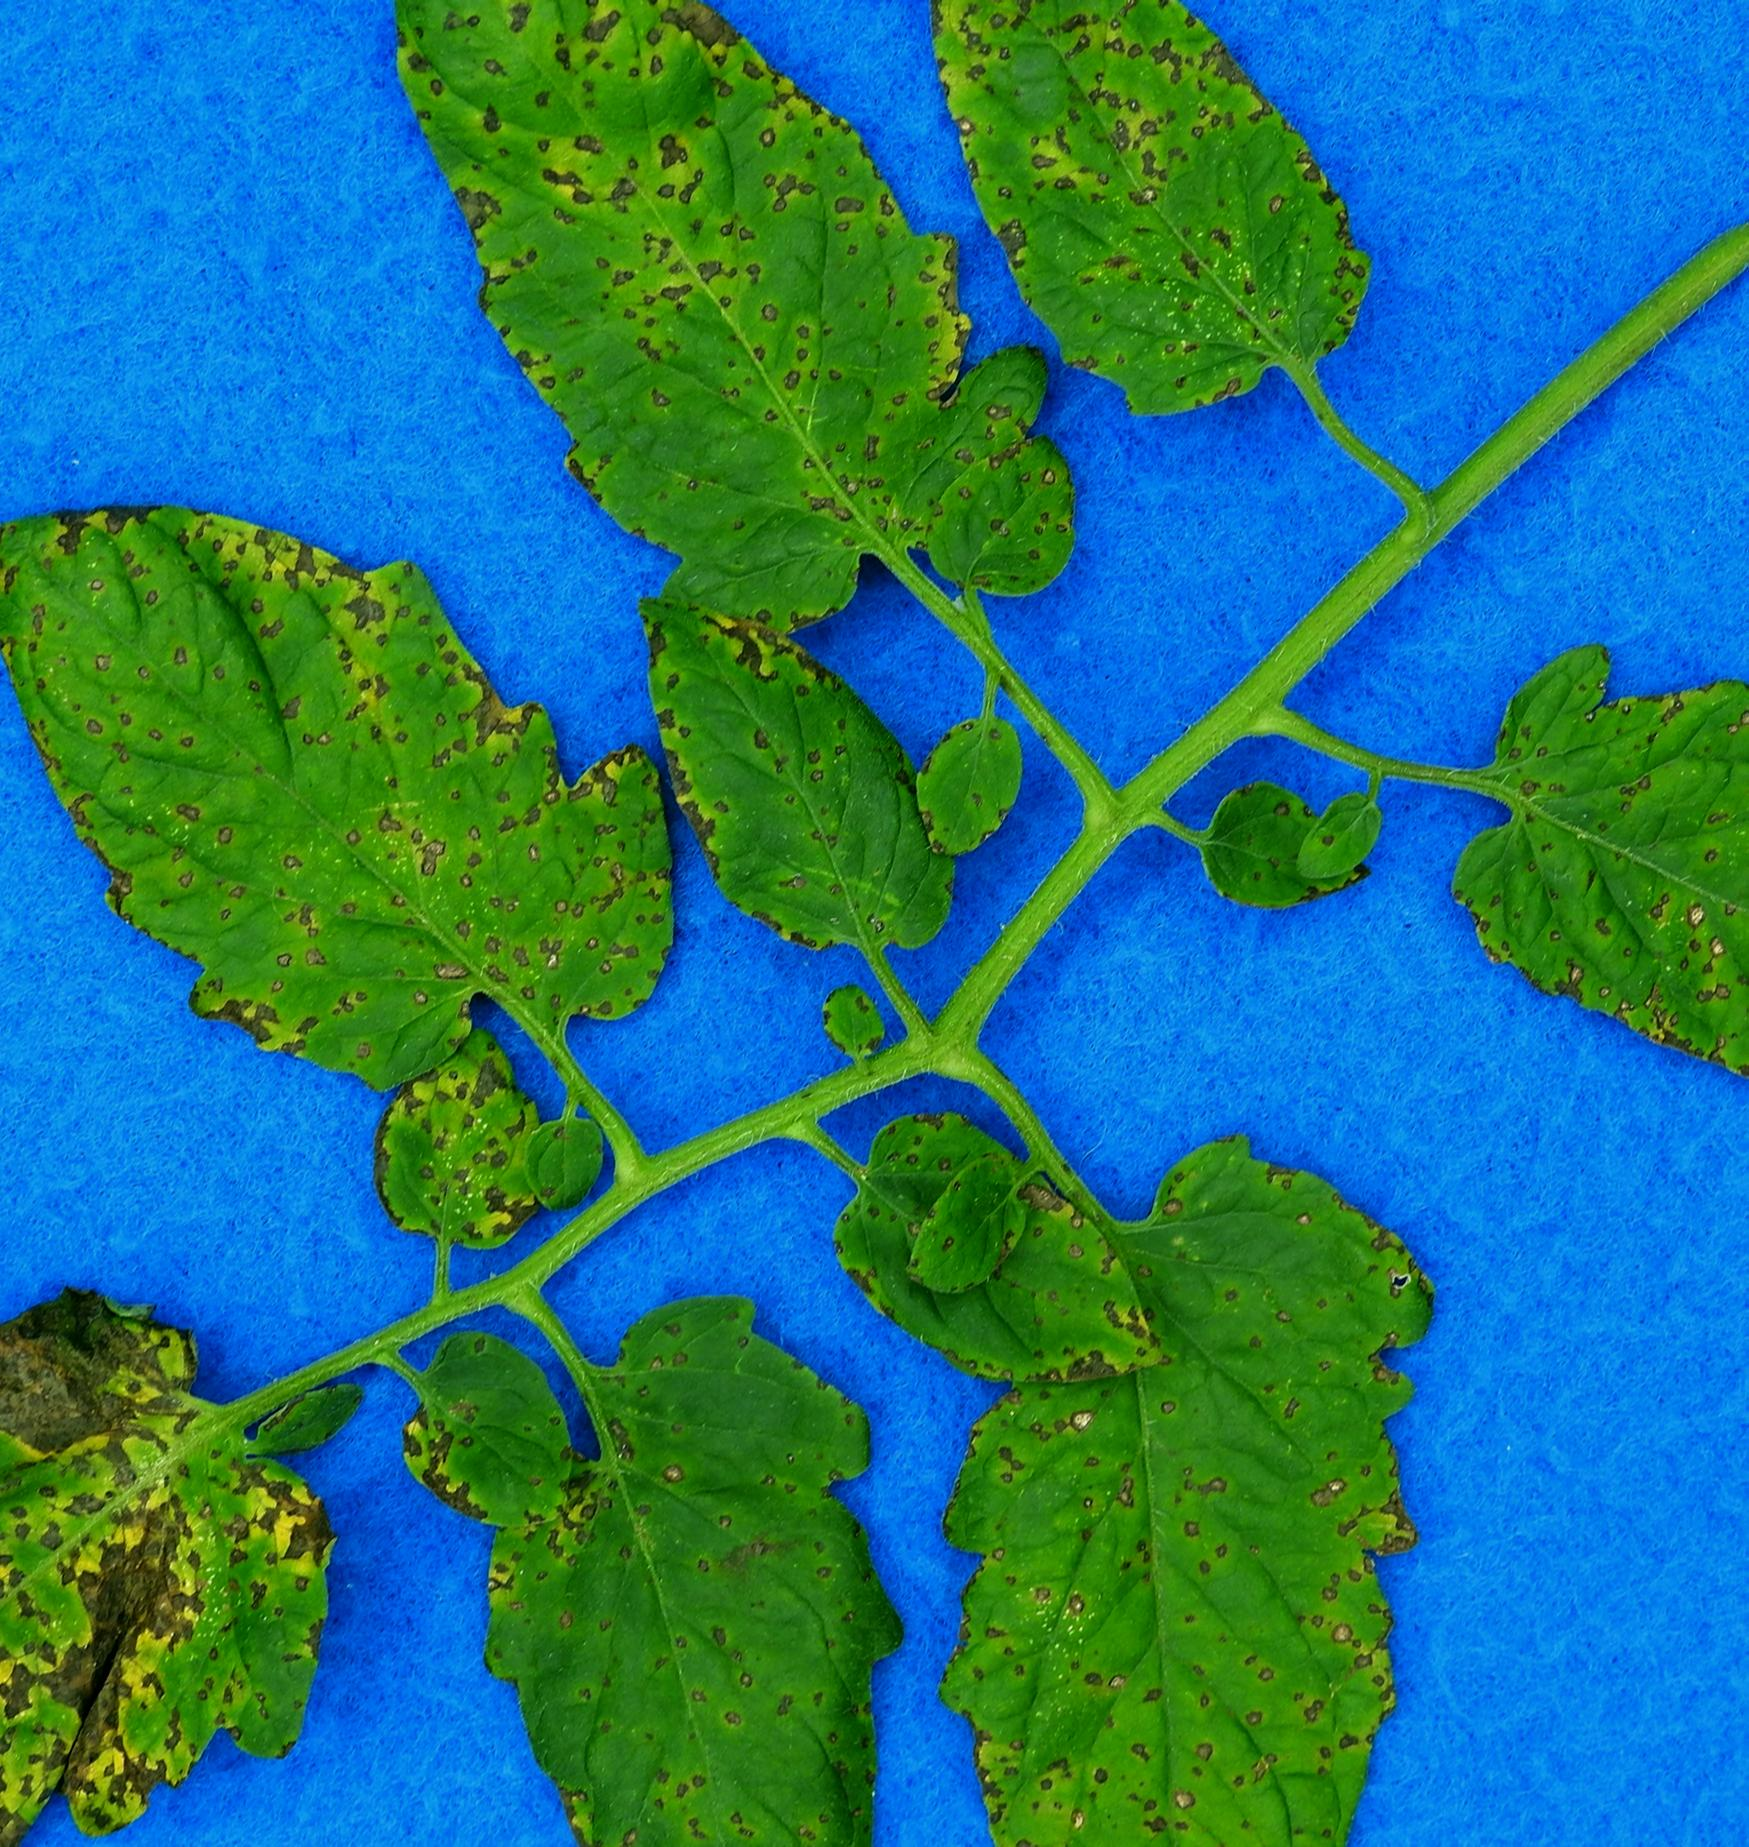Tomato Septoria leaf spot: (907, 1002, 1442, 1847), (386, 0, 1036, 677), (0, 480, 682, 1099), (332, 1287, 942, 1847), (901, 0, 1387, 457), (0, 1242, 362, 1847), (1438, 606, 1749, 1177), (625, 596, 952, 973), (781, 1103, 1174, 1400)
